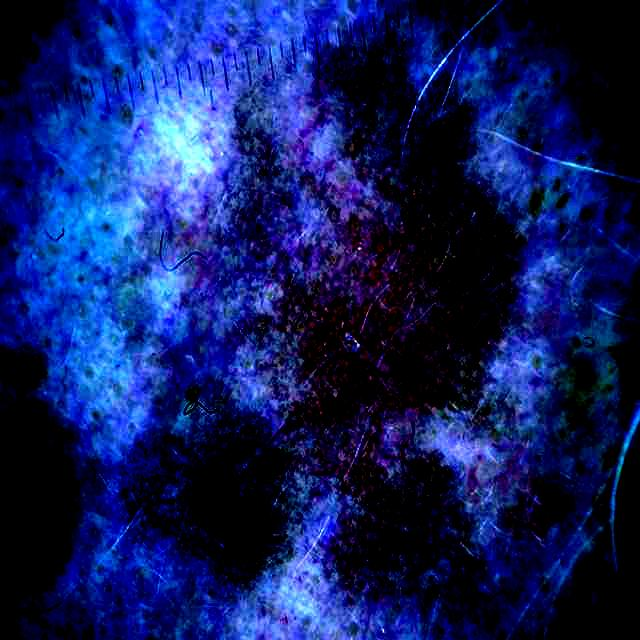BKL: (128, 44, 517, 597)
